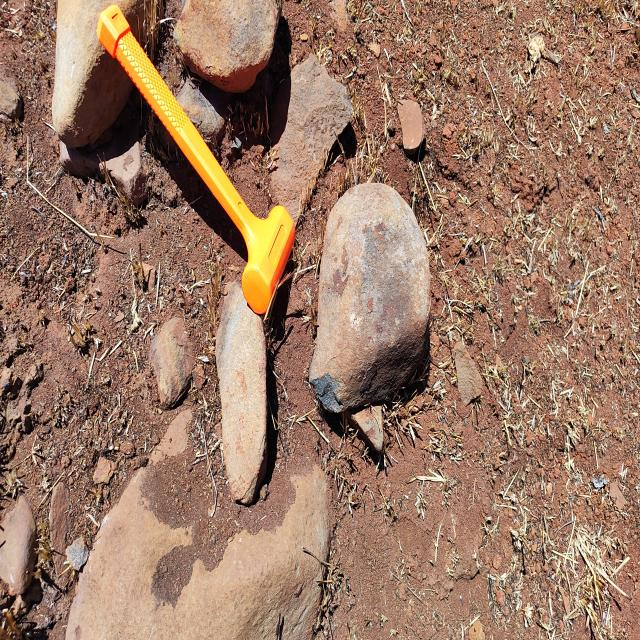Orange_hammer: (95, 3, 296, 318)
